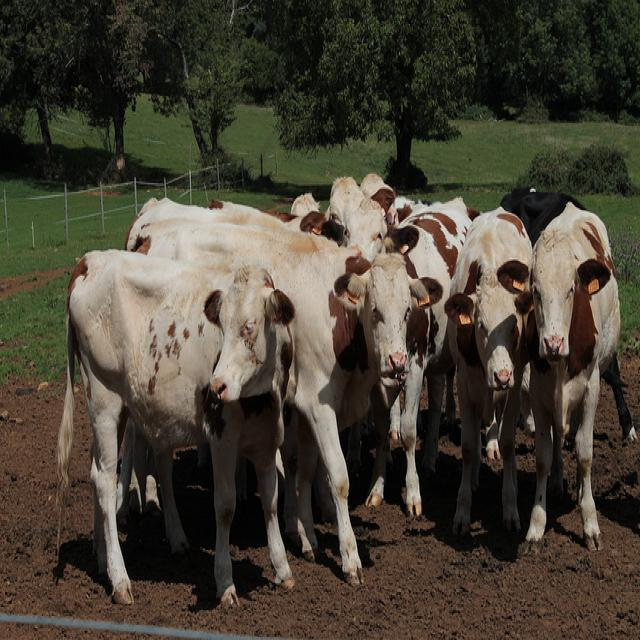cow: (126, 194, 428, 546), (56, 243, 296, 607), (347, 195, 479, 517), (515, 196, 632, 544), (444, 202, 535, 538), (263, 191, 349, 242), (500, 183, 572, 241), (357, 169, 396, 225), (327, 171, 366, 226)
